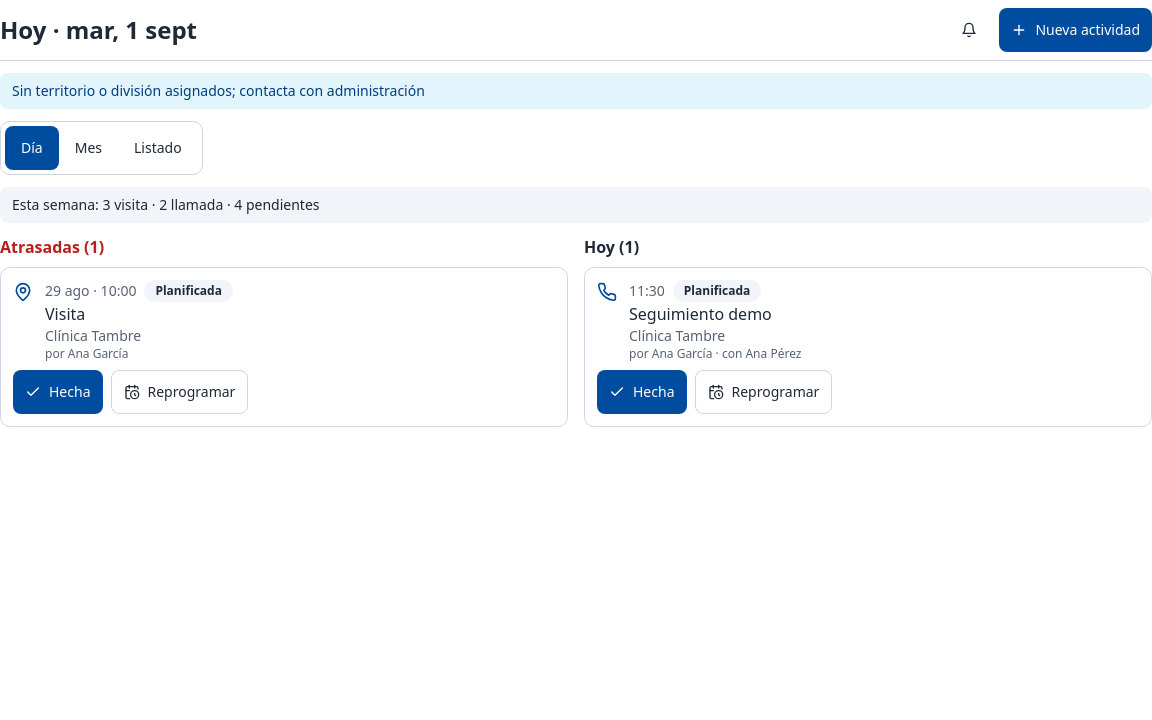
Test: TodayPage › keeps the scope warning and opens the account search from "Nueva actividad"
The width and height of the screenshot is (1152, 720).
Expected: the text "Sin territorio o división asignados; contacta con administración" is shown, top-left (0, 73), bottom-right (1151, 109)
Click the button "Nueva actividad" at [1076, 30], box top-left (999, 8), bottom-right (1151, 52)
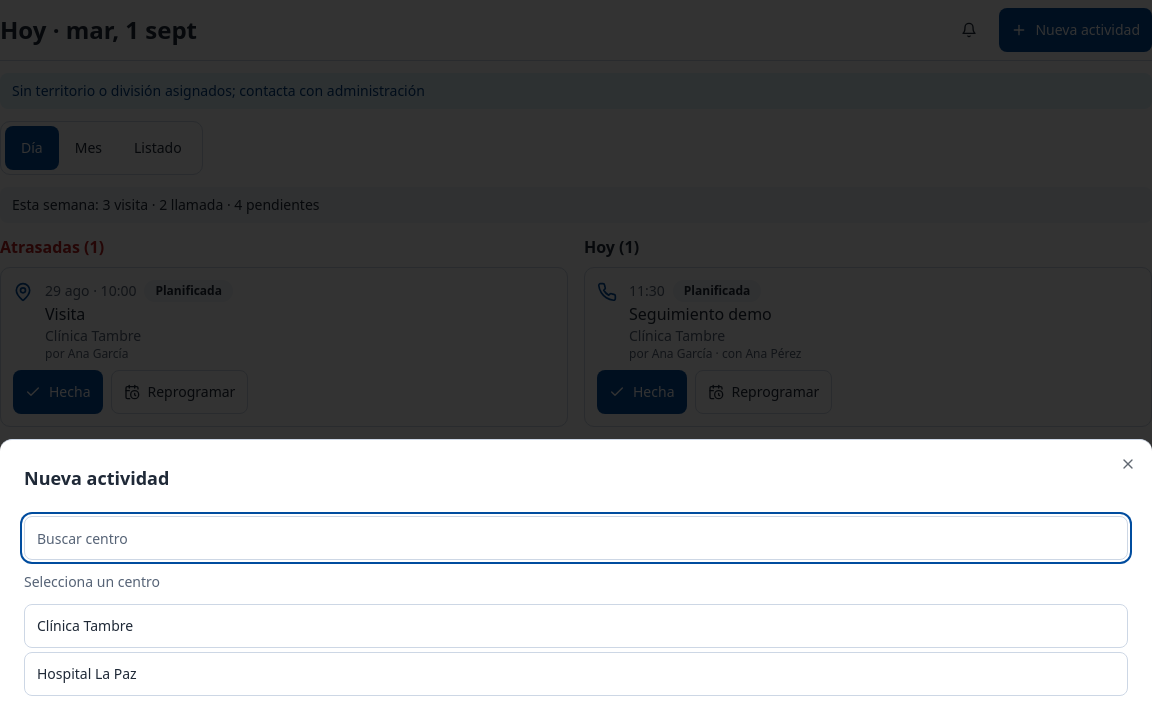
Type "tam" into the search field labelled "Buscar centro" at [576, 538], box top-left (24, 516), bottom-right (1128, 560)
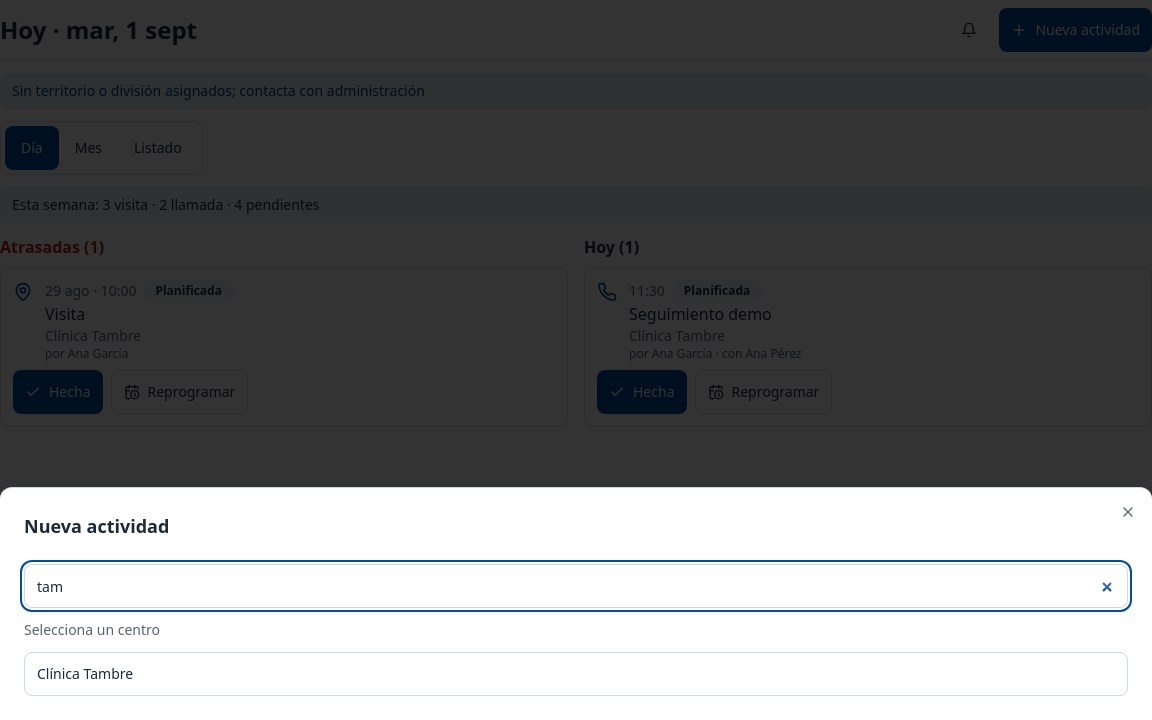
Click the button "Clínica Tambre" at [85, 674], box top-left (24, 652), bottom-right (1128, 696)
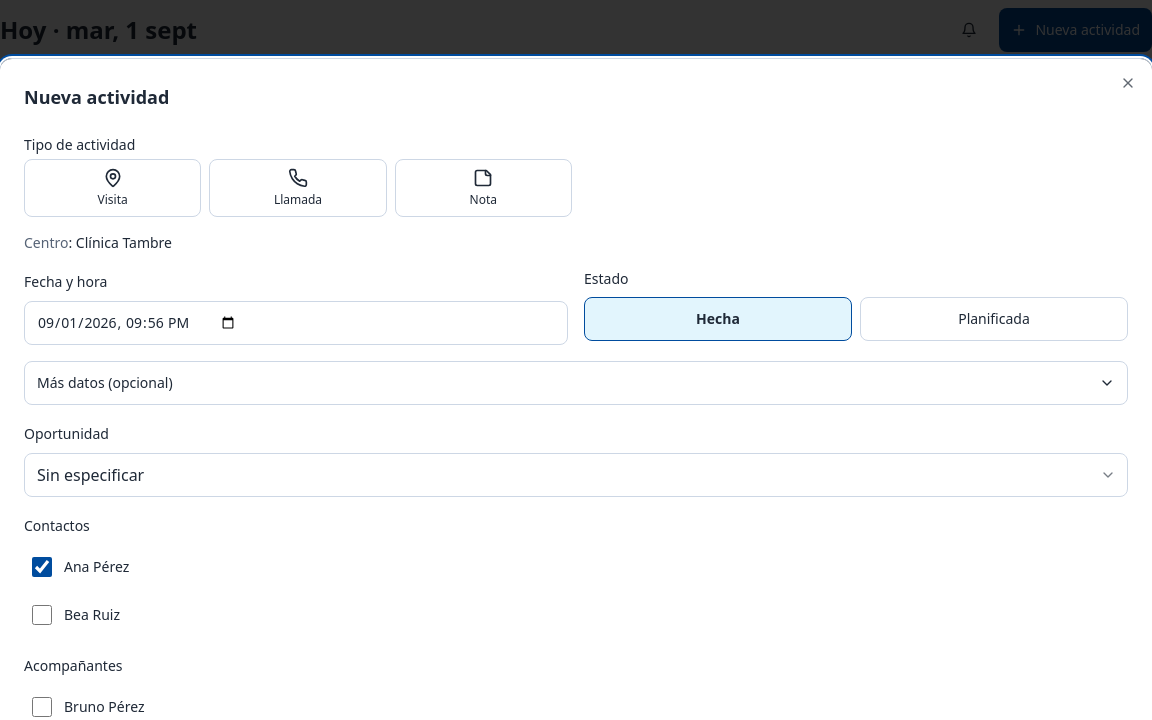
Expected: the text "Clínica Tambre" is shown, top-left (76, 233), bottom-right (172, 252)
Expected: the radio button labelled "Visita" is shown, top-left (24, 159), bottom-right (201, 217)
